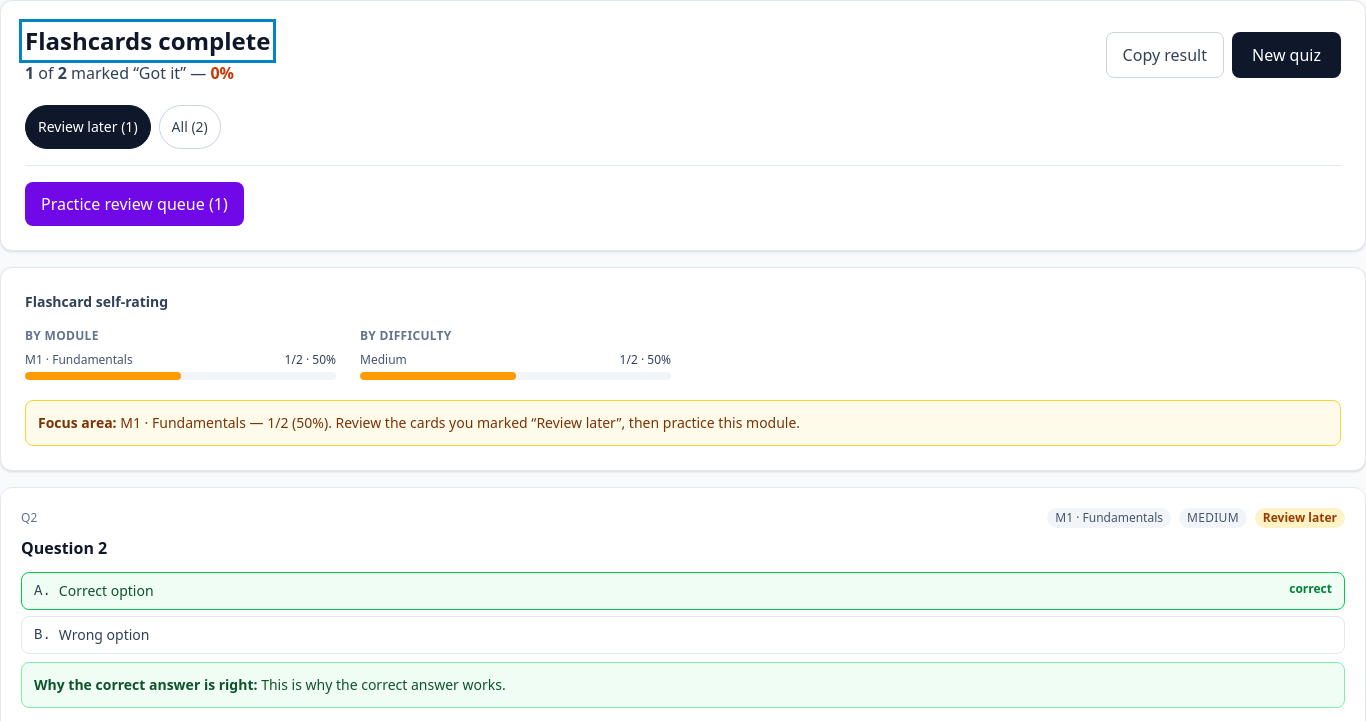
ReviewScreen focused review › keeps flashcard self-ratings separate from graded pass semantics
expect the text "Review later" is shown: met, box [1255,508,1345,528]
expect the button "Practice review queue (1)" is shown: met, box [25,182,244,226]
Click the button "Copy result": click(1165, 55) [1106,32,1224,78]
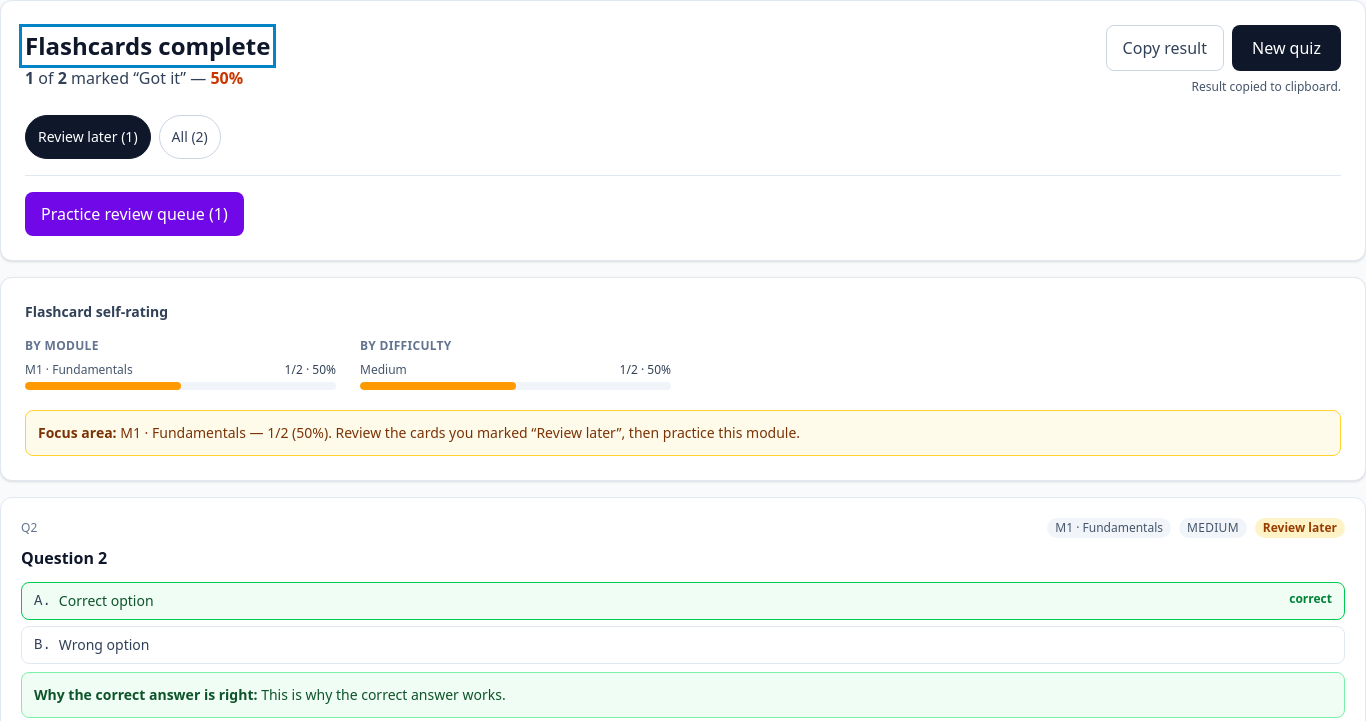
expect the message shows "copied to clipboard": met, box [1192,78,1341,95]
